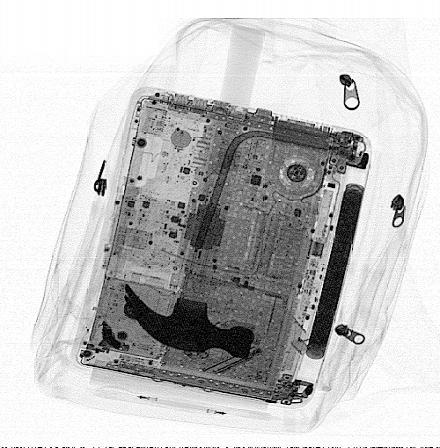Hammer: (123, 25, 265, 362)
